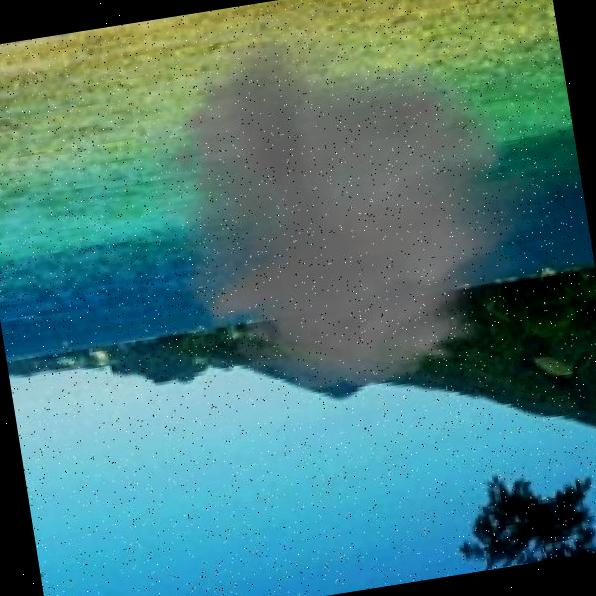smoke: (150, 14, 493, 412)
